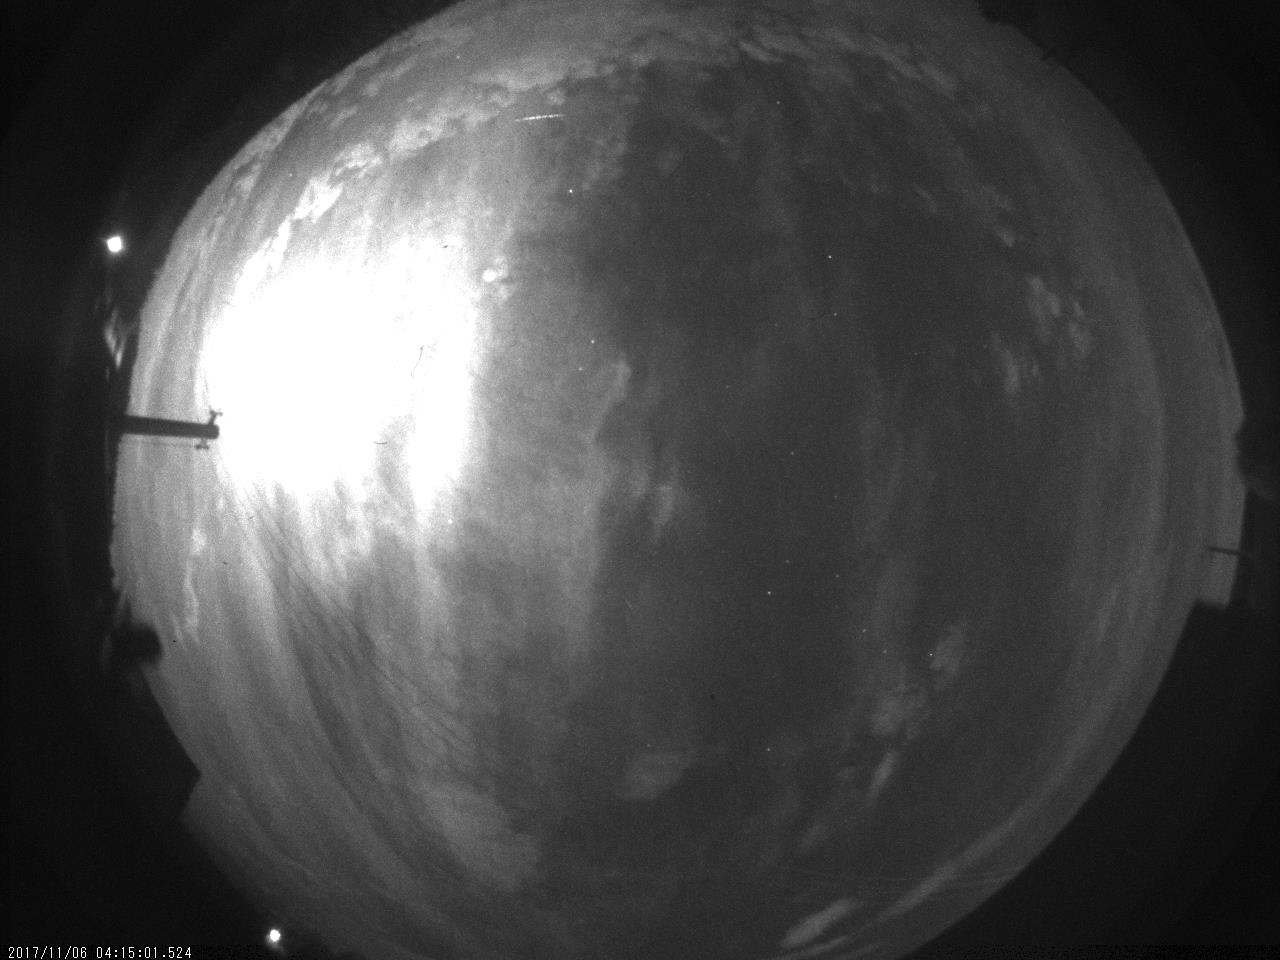meteor: (507, 103, 573, 136)
